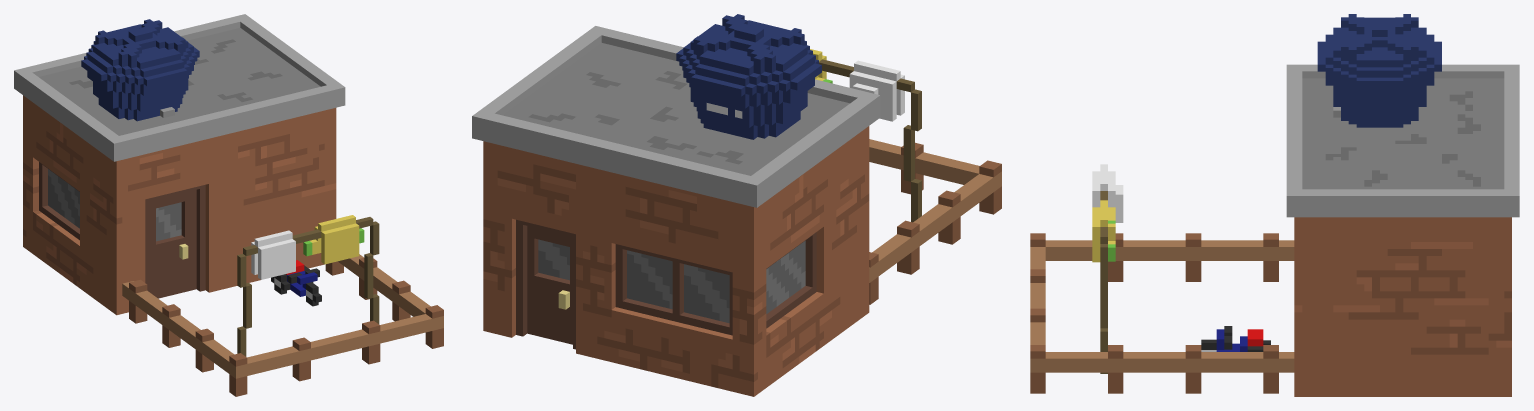
File: casacomvaral.obj
3 renders of one model, left to right at view 1: azimuth 30°, elevation 25°; view 2: azimuth 150°, elevation 25°; view 3: azimuth 270°, elevation 25°, orthographic. The views are drawn at different scales.
Bounding box in the file's own units: 4 × 4 × 6.3.
1 material, 1 textured.
